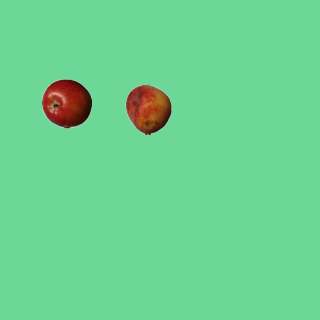Apple Braeburn: (41, 78, 91, 128)
Peach: (123, 84, 173, 134)
